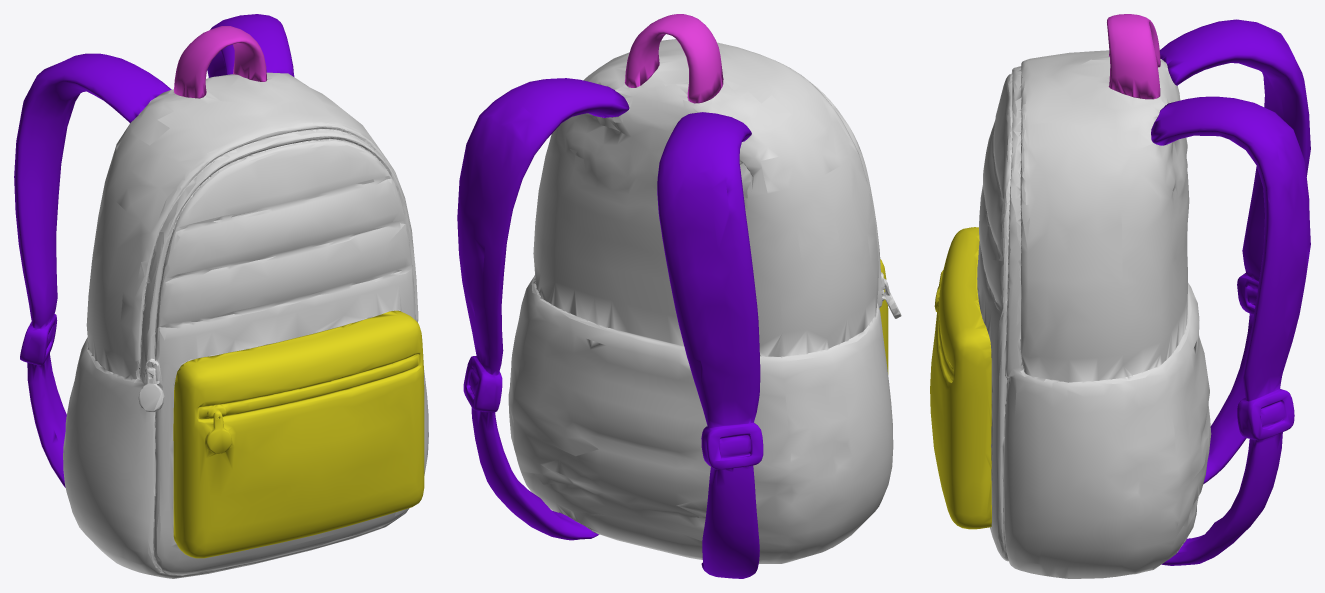
Rendered from MDL_Mochila.fbx.
3 views of the same model, side by side, from view 1: azimuth 30°, elevation 25°; view 2: azimuth 150°, elevation 25°; view 3: azimuth 270°, elevation 25° (orthographic). The views are drawn at different scales.
Parts seen in each view (by area): view 1: model_part0.033, model_part1.027; view 2: model_part0.033, model_part1.027; view 3: model_part0.033, model_part1.027.
Boxes of the visible parts, box(x1,y1,x2,y2) form: model_part0.033: box(63, 72, 428, 578); model_part1.027: box(14, 14, 424, 558); model_part0.033: box(508, 39, 901, 563); model_part1.027: box(457, 14, 888, 578); model_part0.033: box(977, 50, 1211, 578); model_part1.027: box(930, 14, 1310, 565).
Size of the model in its own units: 109 by 153 by 104.
